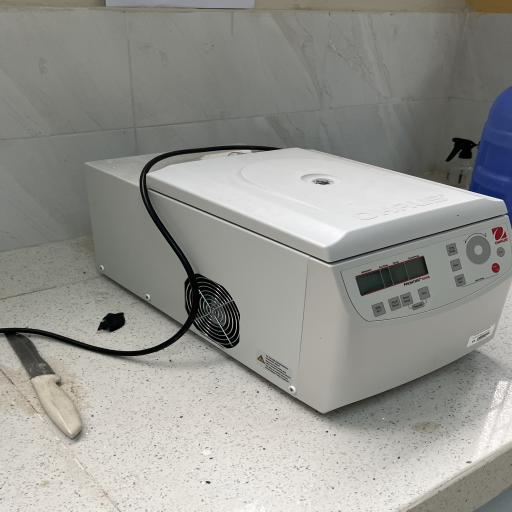Centrifuga_Ohaus_Frontier: (67, 132, 512, 428)
